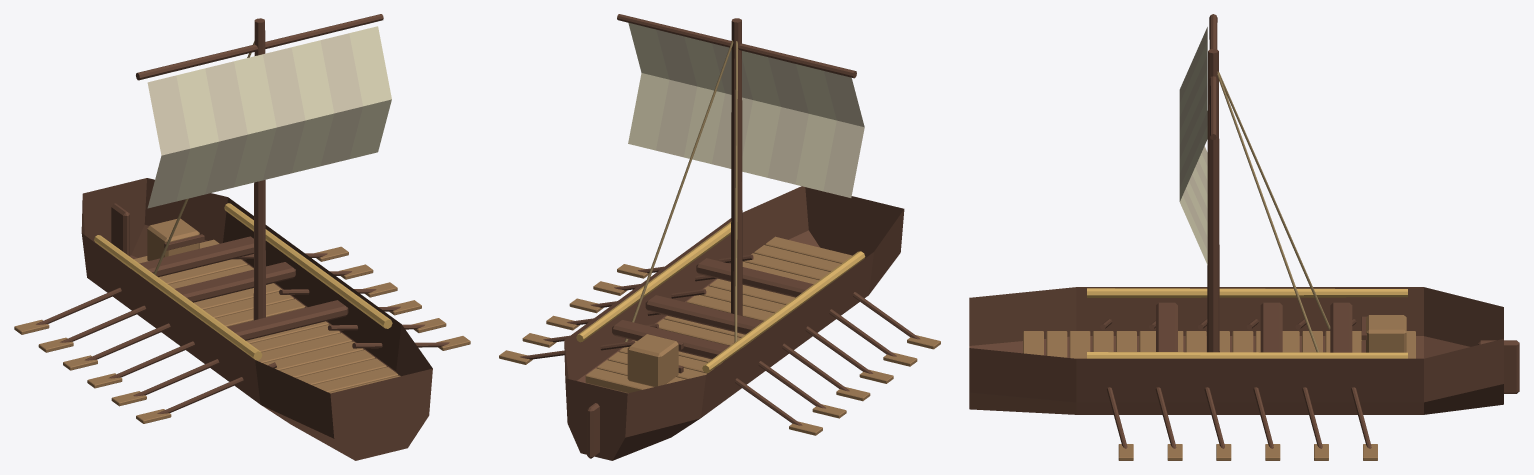
The model's file is galley.glb.
The picture shows the model from 3 angles, left to right: view 1: azimuth 30°, elevation 25°; view 2: azimuth 150°, elevation 25°; view 3: azimuth 270°, elevation 25°; orthographic projection. The views are drawn at different scales.
Visible parts, largest first — view 1: Geometry; view 2: Geometry; view 3: Geometry.
Part boxes in pixels (x1=…): Geometry: x1=14, y1=14, x2=470, y2=460; Geometry: x1=499, y1=14, x2=940, y2=460; Geometry: x1=969, y1=14, x2=1519, y2=460.
Bounding box in the file's own units: 3.26 × 3.28 × 4.73.
